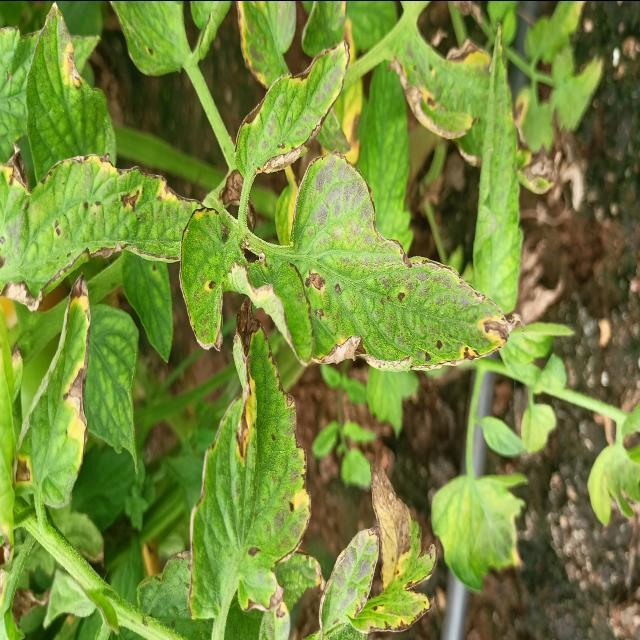Tomato mosaic virus leaf: (182, 290, 310, 624), (286, 221, 520, 381), (0, 125, 181, 316), (9, 269, 94, 511), (233, 37, 351, 179), (356, 459, 440, 636)
